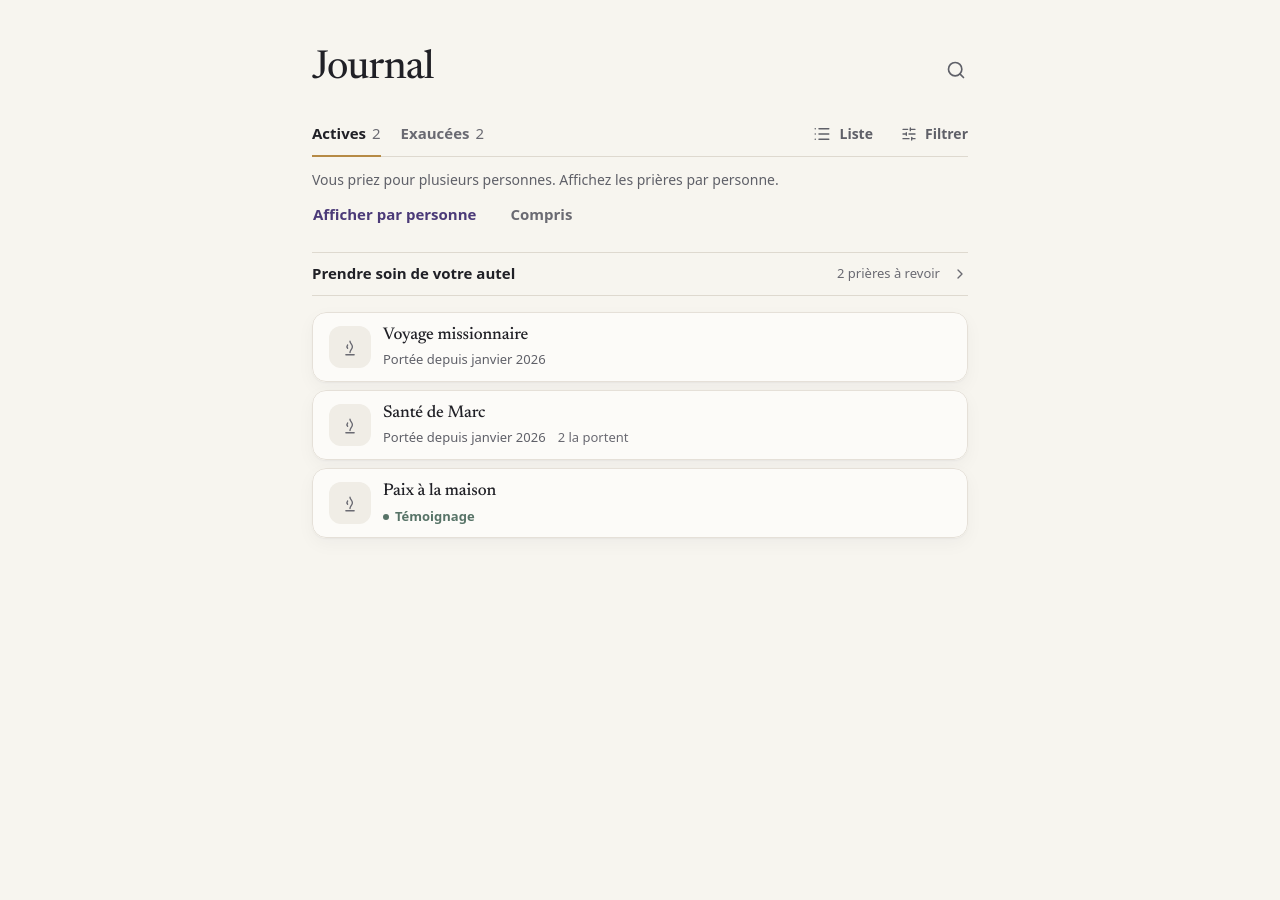
Scenario: Journal retrieval › opens filters as a modal overlay and closes it with Escape
Click the button named "Rechercher...": (956, 70) x1=934 y1=48 x2=978 y2=92
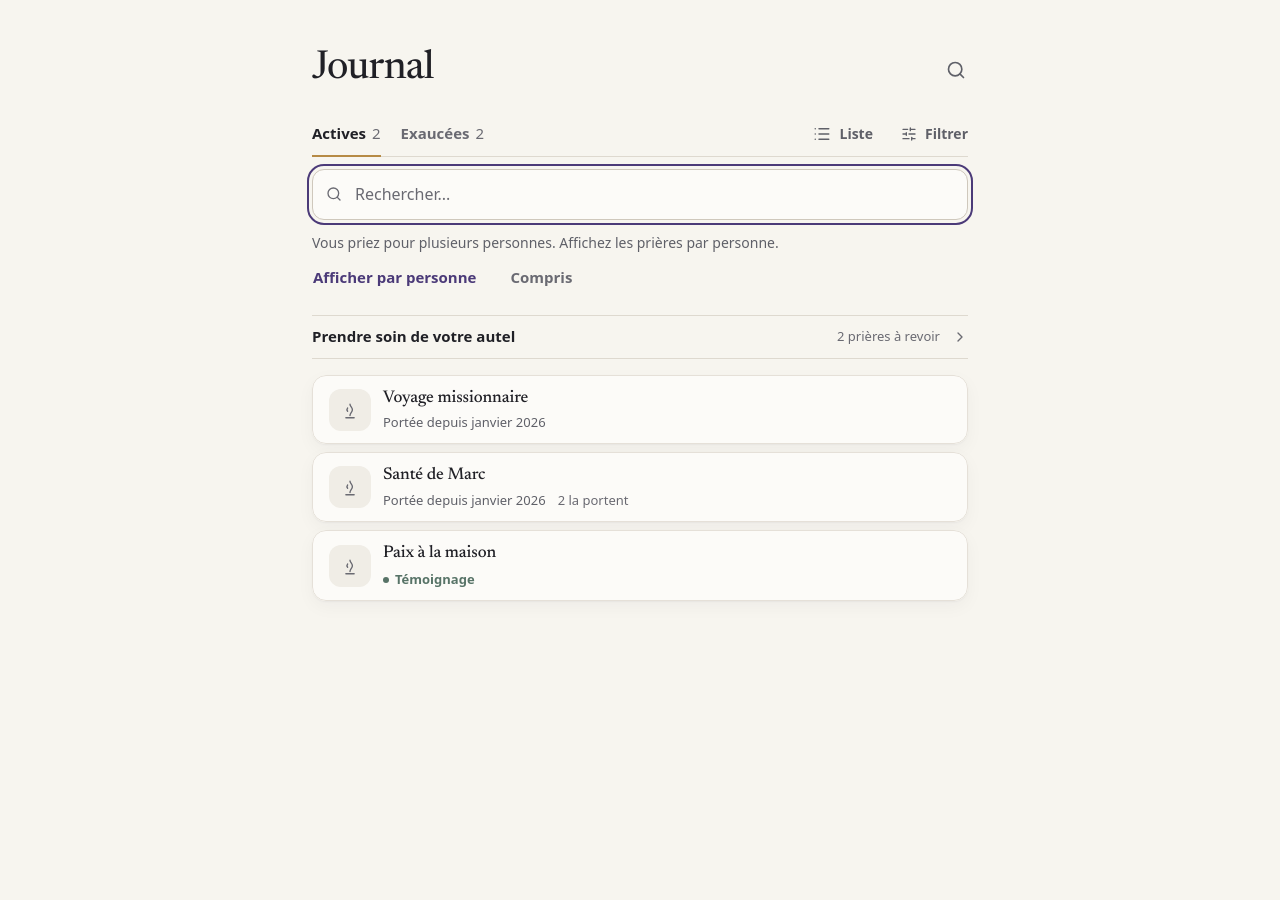
Click the button "Filtrer": (934, 134) x1=889 y1=112 x2=980 y2=156
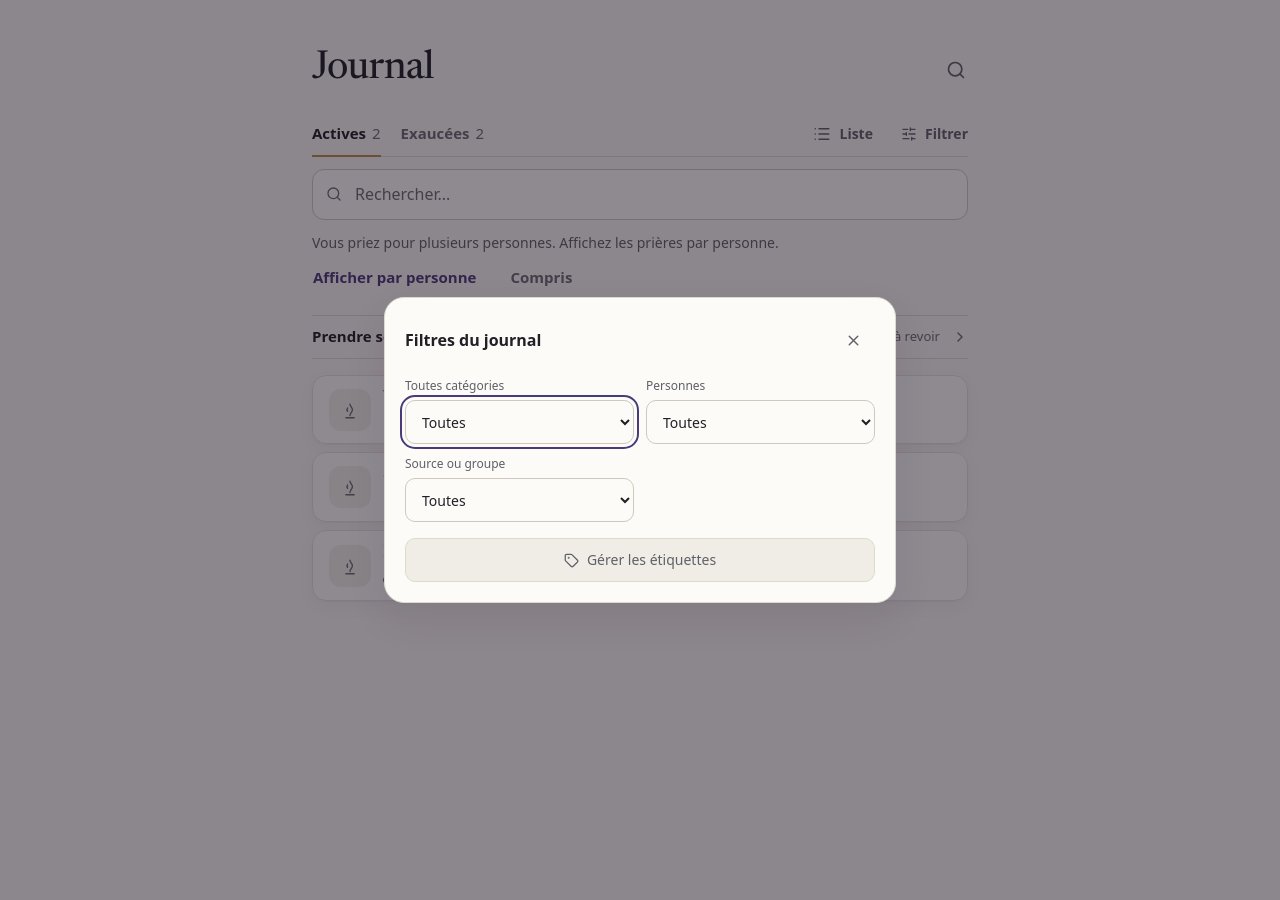
Press Escape
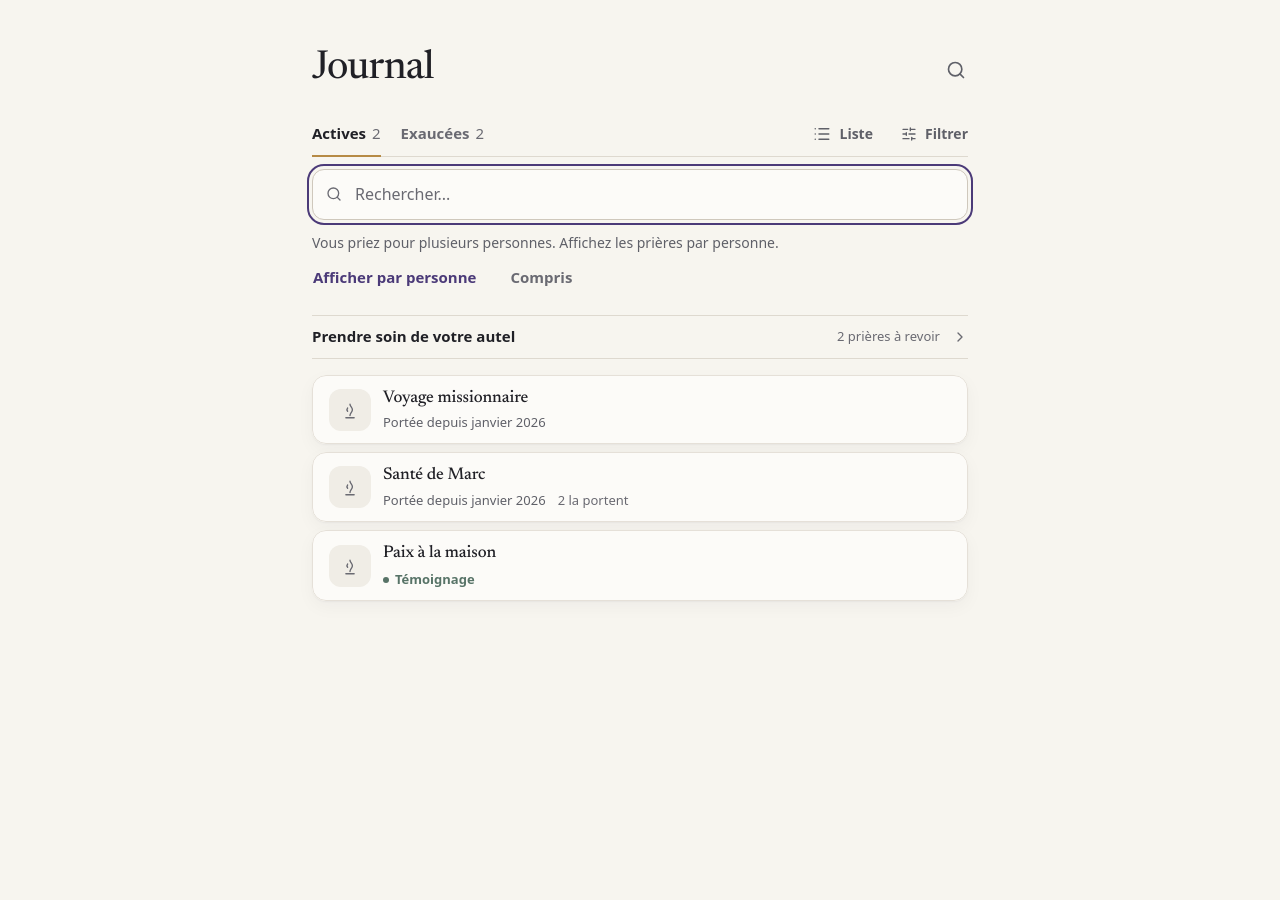
Expected: the heading "Filtres du journal" is gone
